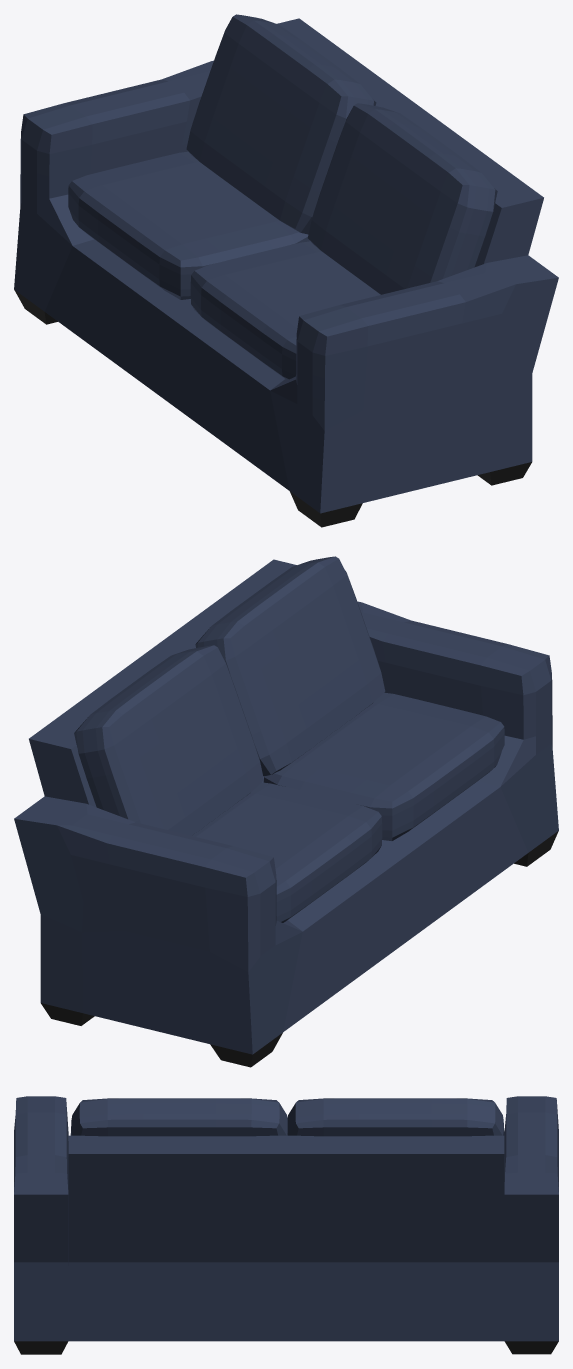
Rendered from sofa1.fbx.
3 views of the same model, one above another, from view 1: azimuth 30°, elevation 25°; view 2: azimuth 150°, elevation 25°; view 3: azimuth 270°, elevation 25° (orthographic). The views are drawn at different scales.
Visible parts, largest first — view 1: Cubo.002; view 2: Cubo.002; view 3: Cubo.002.
Part boxes in pixels (x1=…): Cubo.002: x1=14, y1=14, x2=558, y2=527; Cubo.002: x1=14, y1=556, x2=558, y2=1067; Cubo.002: x1=14, y1=1096, x2=558, y2=1354.
Bounding box in the file's own units: 300 × 314 × 625.
